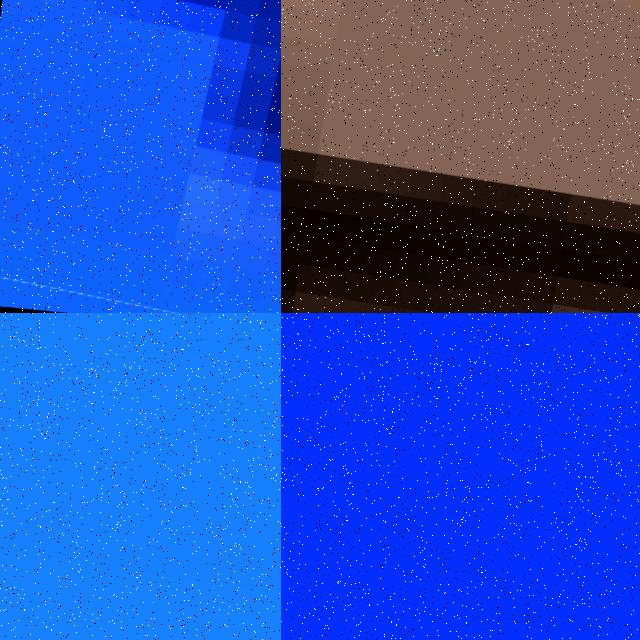drone: (0, 0, 281, 313)
